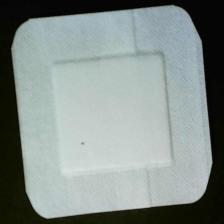Dressing: (11, 5, 217, 221)
F_Body: (70, 135, 92, 152)
